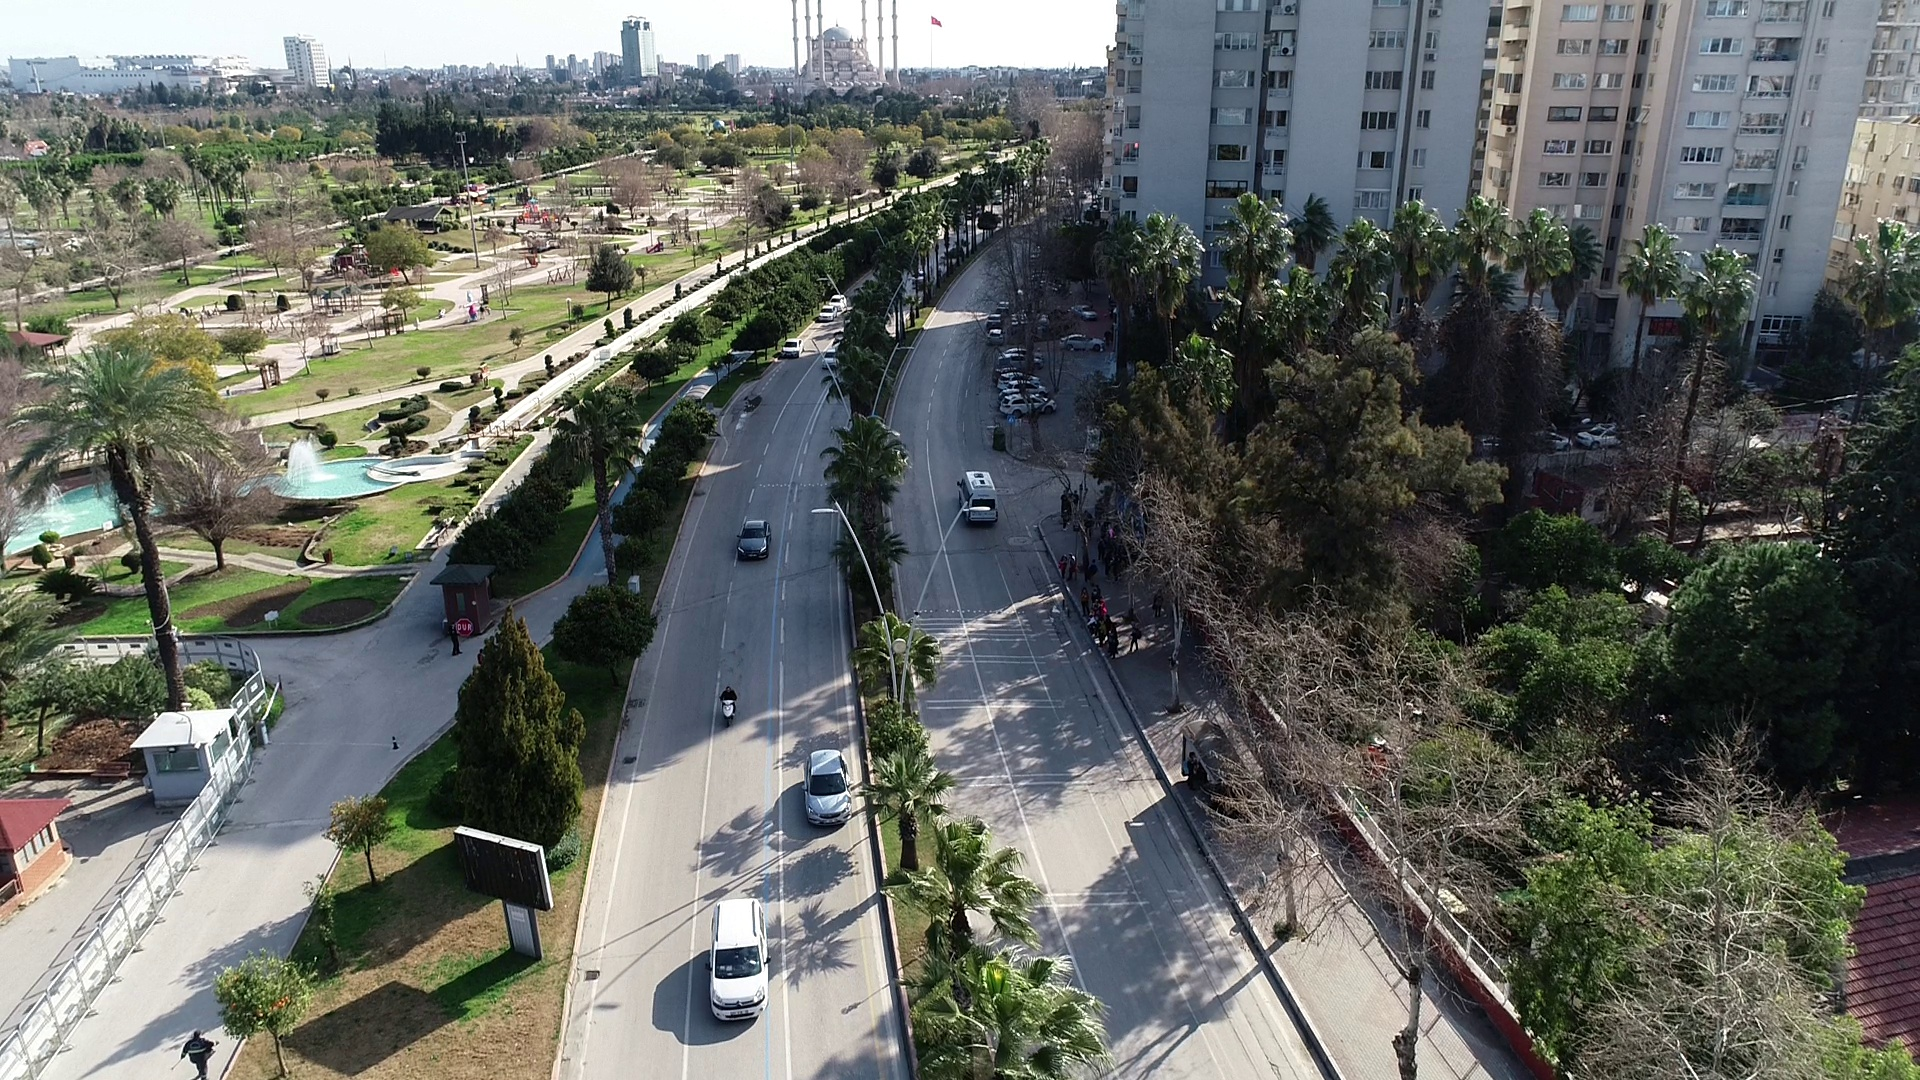bus: (952, 466, 1002, 525)
car: (694, 890, 782, 1025), (798, 747, 858, 830), (734, 514, 778, 562), (1574, 417, 1637, 448), (999, 392, 1060, 418), (1058, 332, 1105, 355), (1066, 300, 1100, 327), (820, 345, 842, 370), (780, 335, 805, 358), (818, 302, 838, 324), (983, 326, 1005, 345), (982, 311, 1003, 327)
person: (170, 1027, 222, 1080), (446, 618, 463, 658), (1127, 623, 1144, 656), (1152, 586, 1167, 618), (1077, 584, 1092, 615), (720, 683, 741, 701), (1067, 550, 1079, 580), (1096, 532, 1108, 561), (1057, 553, 1068, 579), (478, 302, 486, 321)
